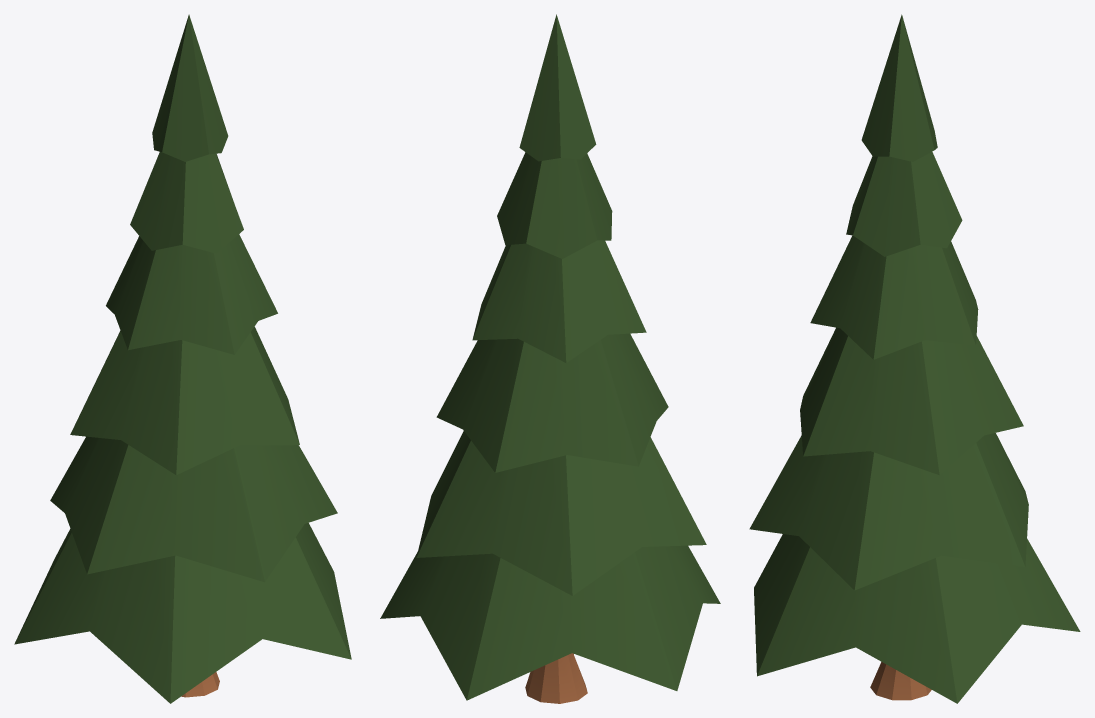
Rendered from Tree1.glb.
3 views of the same model, side by side, from view 1: azimuth 30°, elevation 25°; view 2: azimuth 150°, elevation 25°; view 3: azimuth 270°, elevation 25° (orthographic).
Visible parts, largest first — view 1: Pinetree Leaves.009; view 2: Pinetree Leaves.009; view 3: Pinetree Leaves.009.
Boxes of the visible parts, x1,y1,x2,y2 form: Pinetree Leaves.009: [14, 14, 351, 703]; Pinetree Leaves.009: [380, 14, 720, 703]; Pinetree Leaves.009: [749, 14, 1080, 703].
Bounding box in the file's own units: 2.3 × 5 × 2.23.
